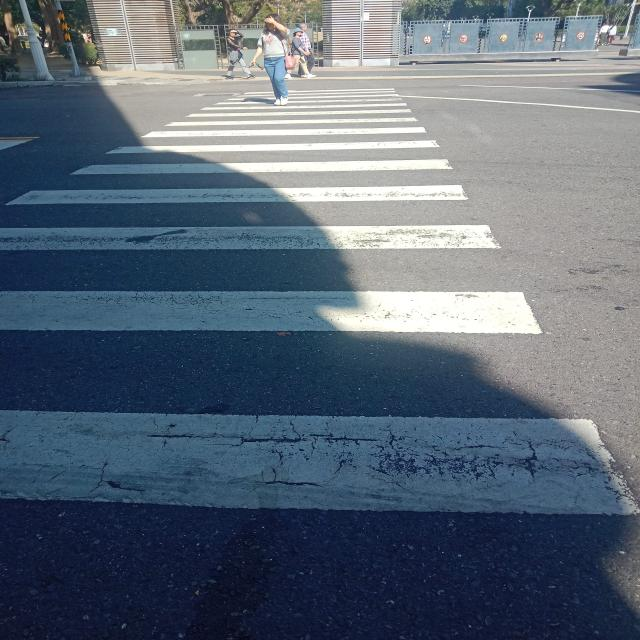person: (250, 15, 288, 106), (225, 29, 255, 80), (292, 29, 315, 79), (300, 25, 315, 78), (598, 22, 610, 45), (607, 24, 618, 45), (285, 69, 292, 79)
zebra crossing: (0, 91, 639, 509)
